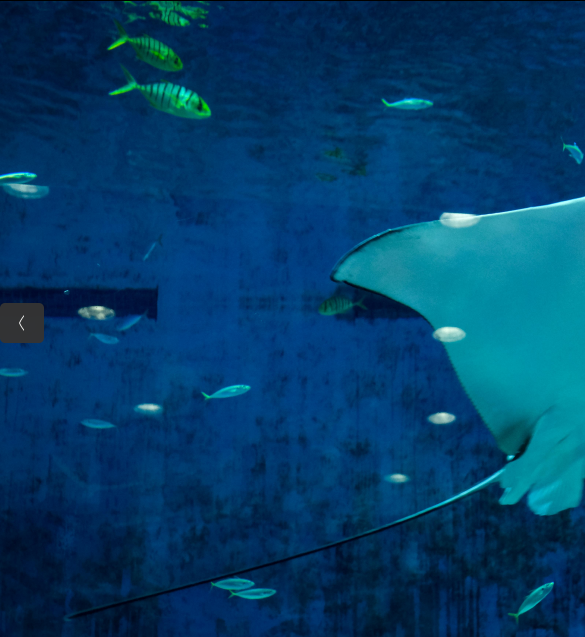fishLarge: (105, 62, 210, 121), (107, 15, 184, 72), (316, 285, 368, 318)
fishSmall: (507, 582, 554, 627), (112, 307, 152, 335), (199, 383, 251, 403), (84, 324, 119, 351), (378, 97, 432, 113), (209, 574, 253, 593), (561, 133, 584, 168), (226, 586, 276, 601), (0, 170, 39, 187), (78, 415, 121, 430)
